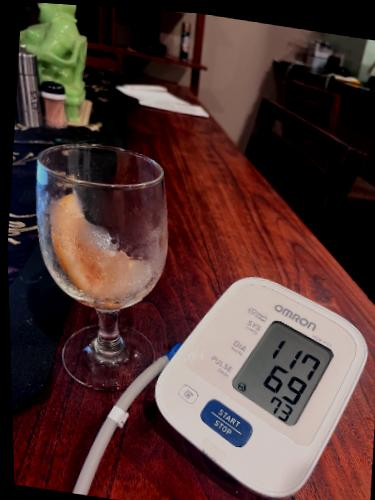bpm: (225, 311, 344, 432)
